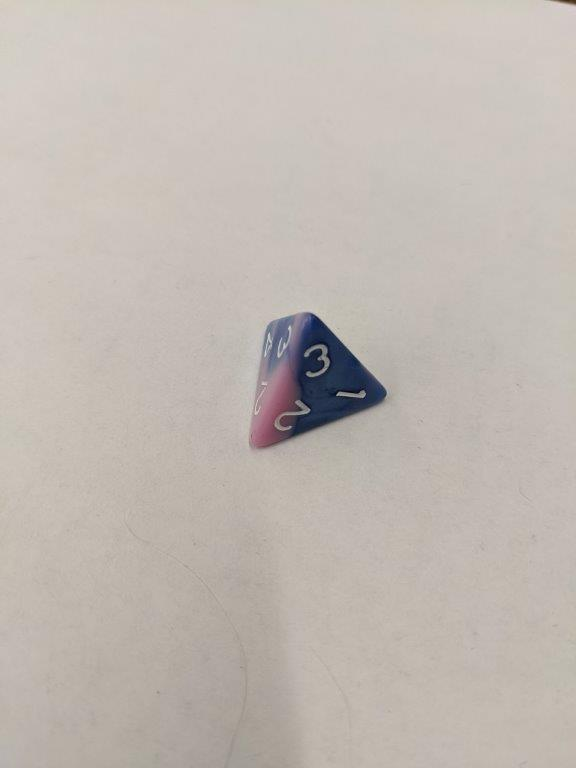d4-3: (244, 305, 390, 453)
